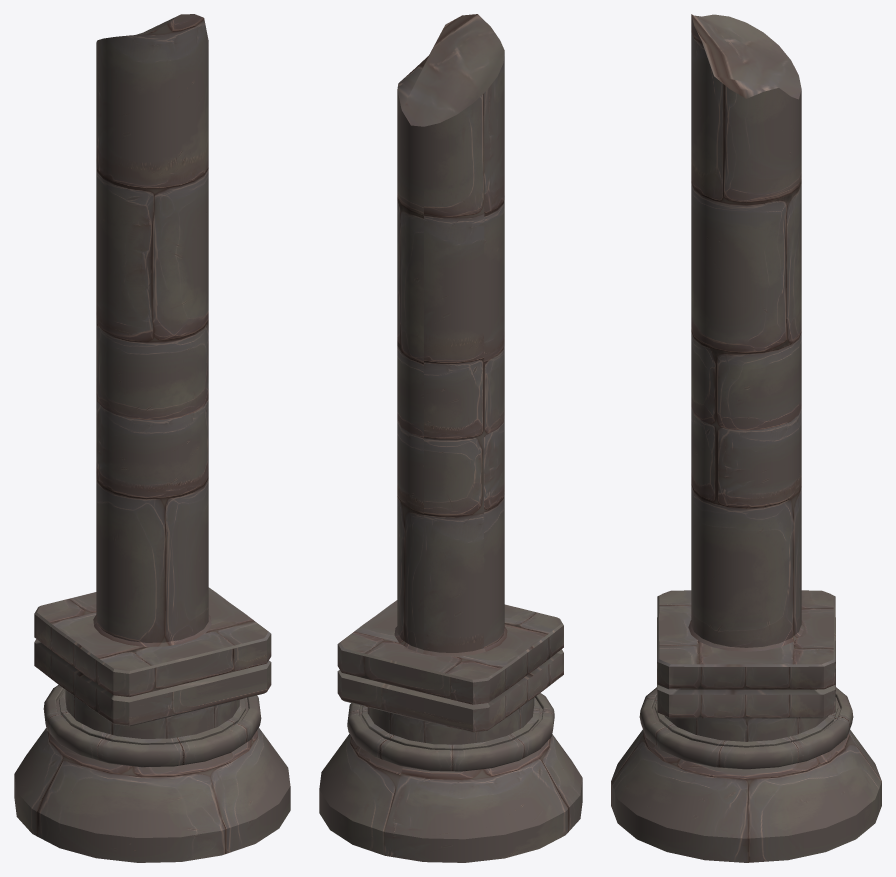
Rendered from PillarDamaged1_2.fbx.
3 renders of one model, left to right at view 1: azimuth 30°, elevation 25°; view 2: azimuth 150°, elevation 25°; view 3: azimuth 270°, elevation 25°, orthographic. The views are drawn at different scales.
Parts seen in each view (by area): view 1: pasted__pasted__polySurface70; view 2: pasted__pasted__polySurface70; view 3: pasted__pasted__polySurface70.
Boxes of the visible parts, x1=… form: pasted__pasted__polySurface70: x1=14, y1=14, x2=290, y2=862; pasted__pasted__polySurface70: x1=319, y1=14, x2=582, y2=862; pasted__pasted__polySurface70: x1=611, y1=14, x2=881, y2=862.
Bounding box in the file's own units: 55.85 × 180 × 55.85.
